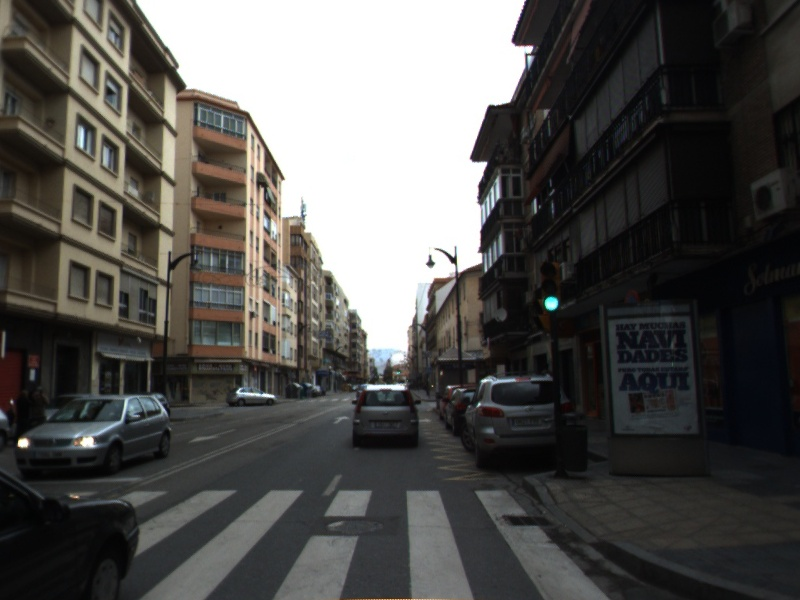STRAIGHT: (332, 414, 351, 425)
